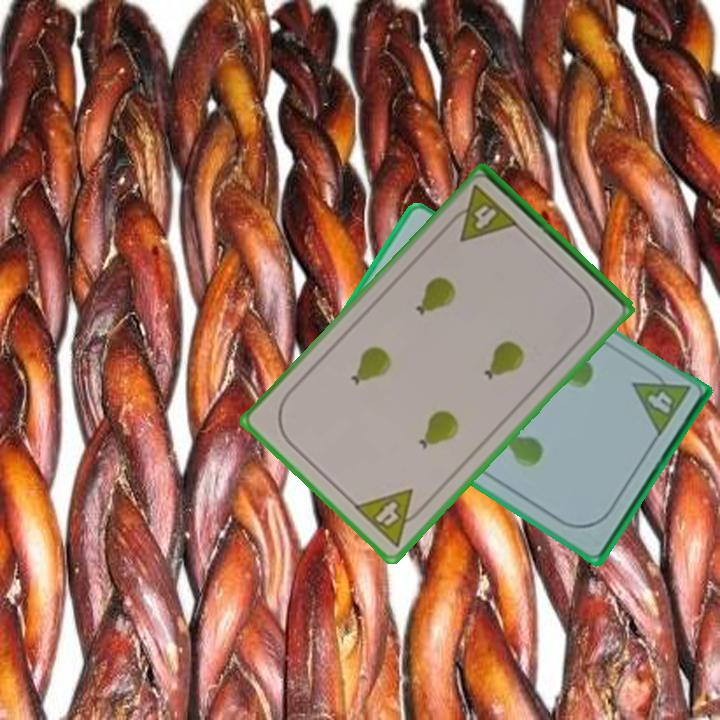4p: (350, 485, 431, 551), (628, 363, 693, 440), (443, 182, 522, 245)
